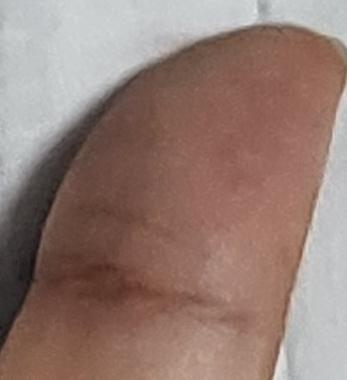Fingerprints: (34, 23, 347, 297)
